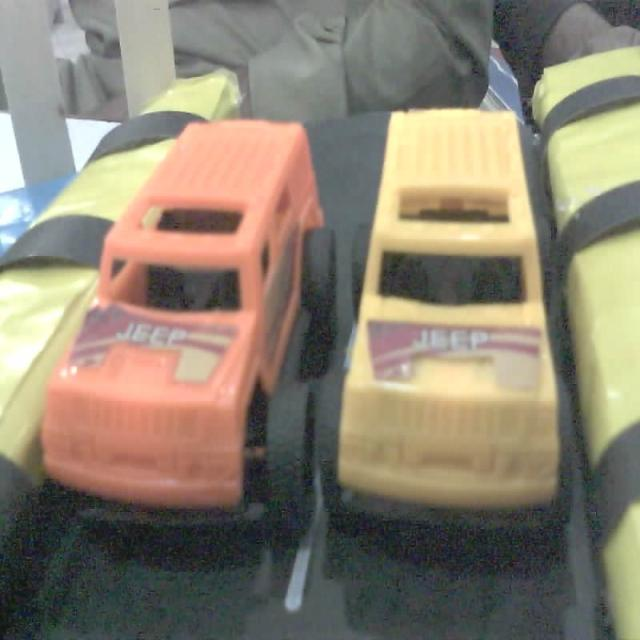TwoCar: (30, 94, 338, 564), (325, 75, 586, 562)
